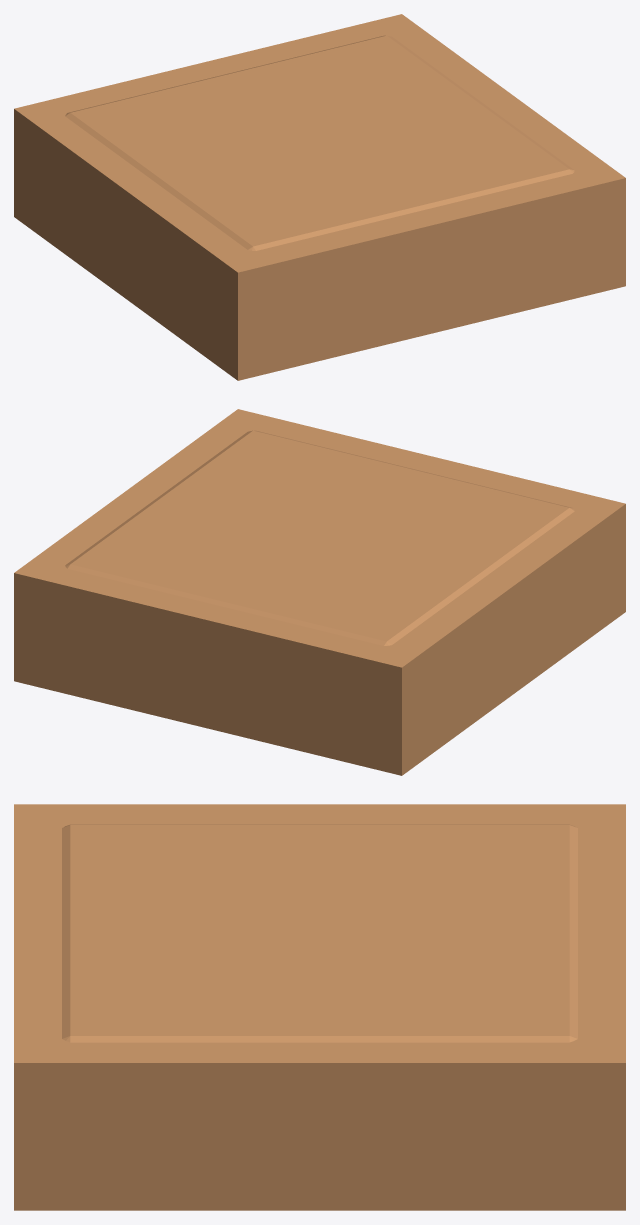
The model's file is TileA.fbx.
The picture shows the model from 3 angles, top to bottom: view 1: azimuth 30°, elevation 25°; view 2: azimuth 150°, elevation 25°; view 3: azimuth 270°, elevation 25°; orthographic projection. The views are drawn at different scales.
Visible parts, largest first — view 1: TileA.001; view 2: TileA.001; view 3: TileA.001.
Part boxes in pixels (x1,y1,x2,y2): TileA.001: [14, 14, 625, 380]; TileA.001: [14, 409, 625, 775]; TileA.001: [14, 804, 625, 1210].
Bounding box in the file's own units: 97.5 × 26.55 × 97.5.
